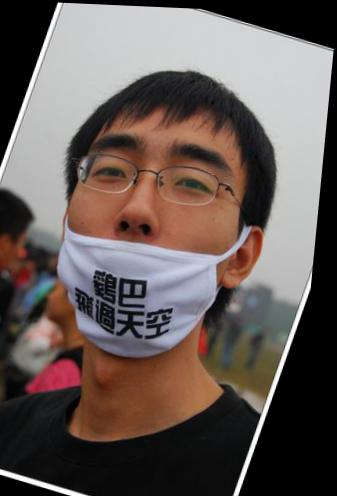WRONG: (33, 95, 278, 350)
